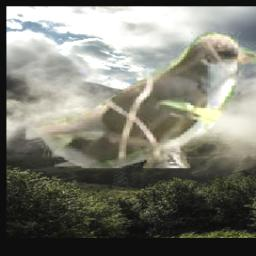Cuckoo: (27, 33, 256, 169)
